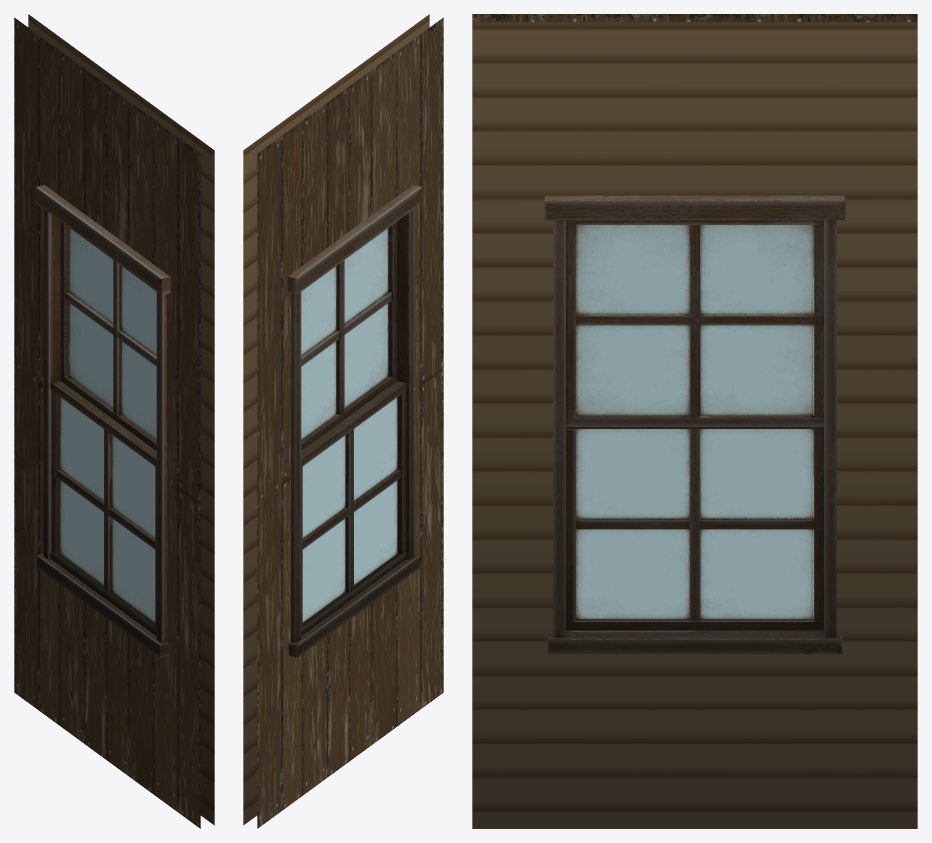
The model's file is M_Window.fbx.
The picture shows the model from 3 angles, left to right: view 1: azimuth 30°, elevation 25°; view 2: azimuth 150°, elevation 25°; view 3: azimuth 270°, elevation 25°; orthographic projection. The views are drawn at different scales.
Parts seen in each view (by area): view 1: Cube.030; view 2: Cube.030; view 3: Cube.030.
Part boxes in pixels (x1,y1,x2,y2): Cube.030: [14, 14, 214, 828]; Cube.030: [243, 14, 443, 828]; Cube.030: [472, 14, 917, 828].
Size of the model in its own units: 19.87 by 400 by 200.
